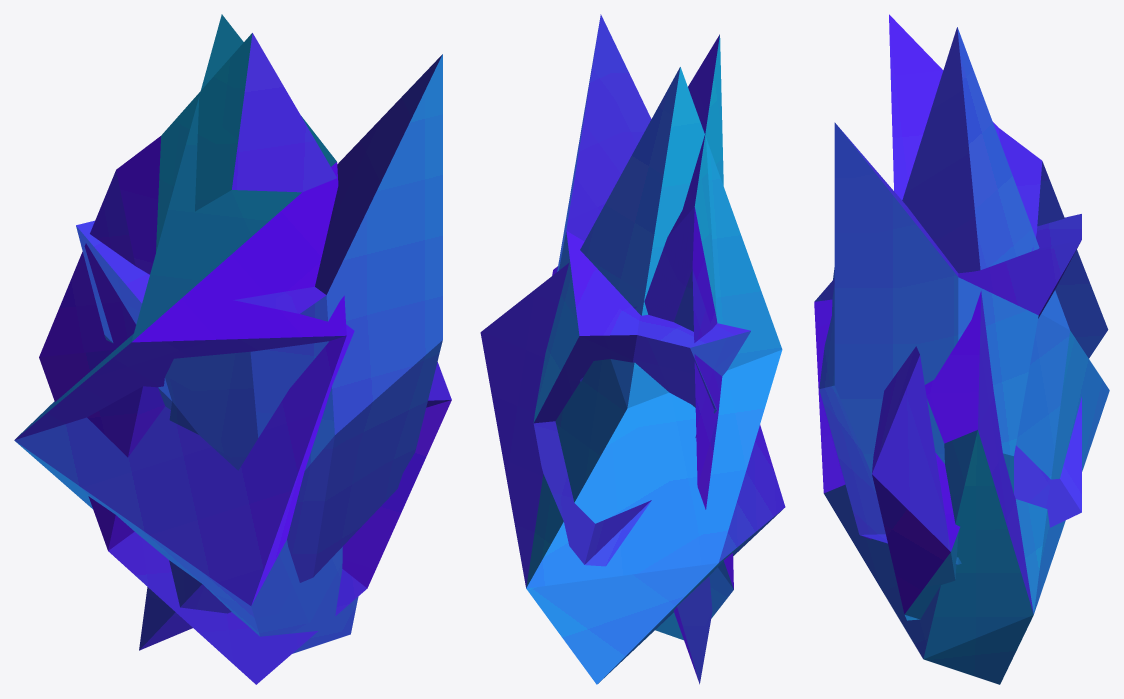
The model's file is FIYAH.gltf.
3 renders of one model, left to right at view 1: azimuth 30°, elevation 25°; view 2: azimuth 150°, elevation 25°; view 3: azimuth 270°, elevation 25°, orthographic. The views are drawn at different scales.
Visible parts, largest first — view 1: ember_1, ember_3, ember_2; view 2: ember_1, ember_3, ember_2; view 3: ember_1, ember_3, ember_2.
Part boxes in pixels (x1=…): ember_1: x1=14, y1=14, x2=358, y2=653; ember_3: x1=76, y1=54, x2=442, y2=650; ember_2: x1=39, y1=33, x2=451, y2=684; ember_1: x1=480, y1=67, x2=785, y2=684; ember_3: x1=533, y1=14, x2=750, y2=684; ember_2: x1=552, y1=34, x2=733, y2=640; ember_1: x1=814, y1=27, x2=1109, y2=684; ember_3: x1=819, y1=122, x2=1081, y2=564; ember_2: x1=872, y1=14, x2=1108, y2=620.
Size of the model in its own units: 0.0909 by 0.1798 by 0.0756.
1 material, 1 textured.
